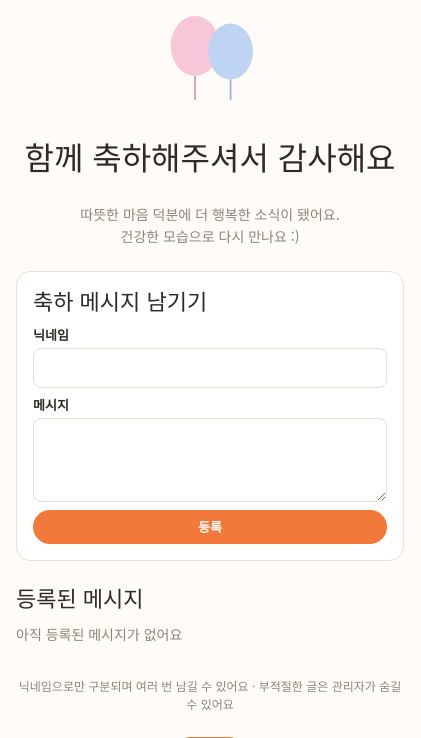
ThankYouScreen › refuses to submit blank fields
Expected: the text "아직 등록된 메시지가 없어요" is shown, top-left (16, 624), bottom-right (182, 644)
Click the button "등록" at (210, 527), box top-left (33, 510), bottom-right (387, 544)
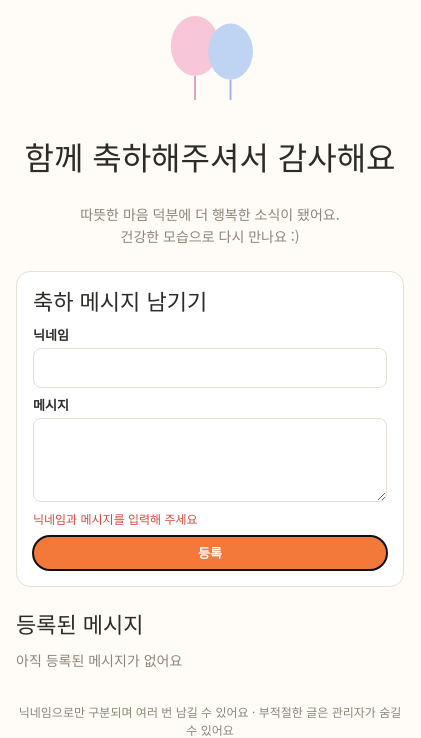
Now the message reads "닉네임과 메시지를 입력해 주세요", box top-left (33, 510), bottom-right (198, 527)
